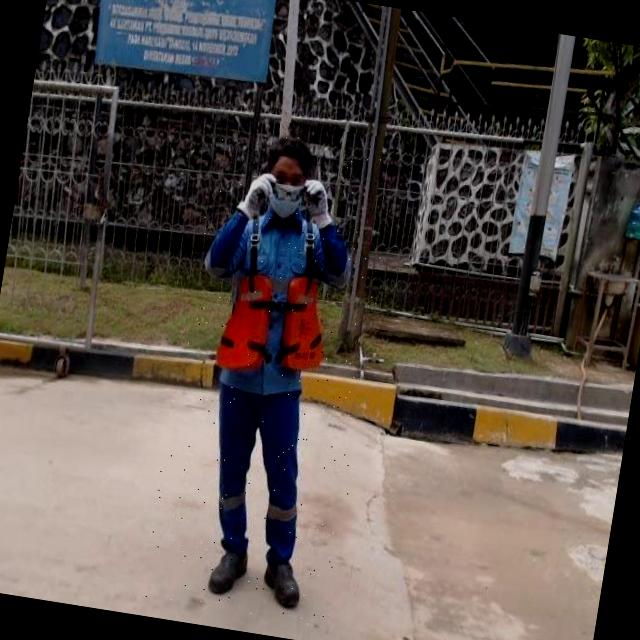boots: (256, 550, 314, 613), (208, 542, 252, 600)
gloves: (292, 169, 358, 246), (226, 160, 284, 247)
no-helmet: (238, 123, 332, 236)
vest: (216, 270, 334, 380)
